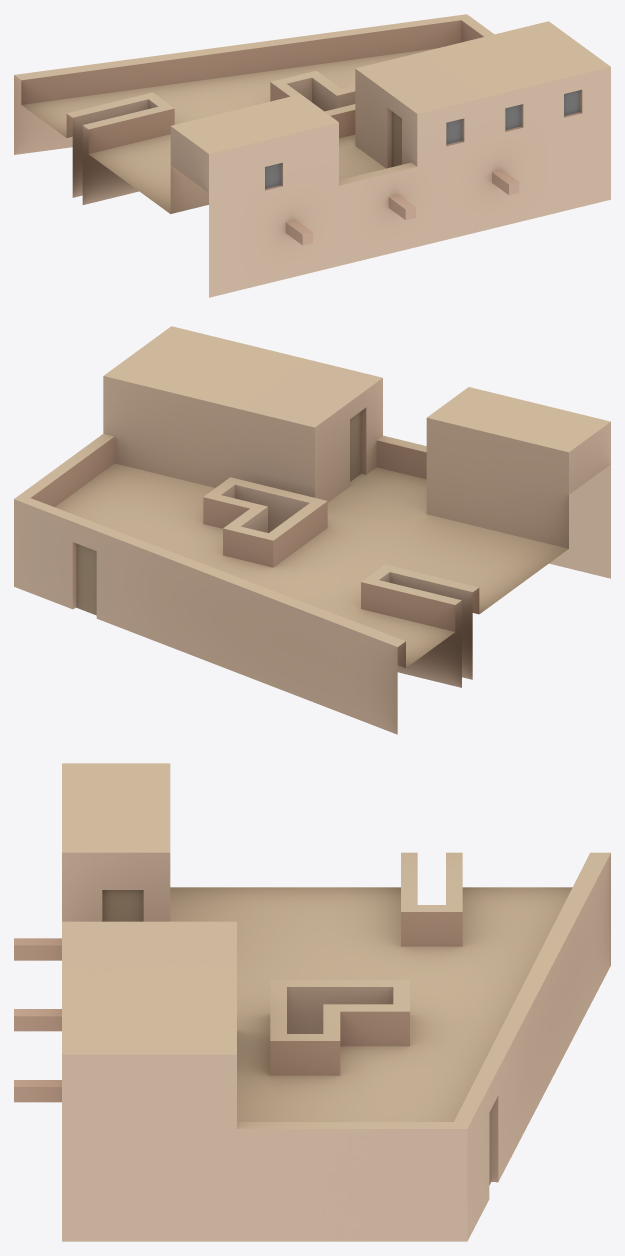
3 views of the same model, one above another, from view 1: azimuth 30°, elevation 25°; view 2: azimuth 150°, elevation 25°; view 3: azimuth 270°, elevation 25° (orthographic). The views are drawn at different scales.
Parts seen in each view (by area): view 1: atturaifworldheritagesite70030076209992704; view 2: atturaifworldheritagesite70030076209992704; view 3: atturaifworldheritagesite70030076209992704.
Boxes of the visible parts, x1,y1,x2,y2 form: atturaifworldheritagesite70030076209992704: [14, 14, 610, 297]; atturaifworldheritagesite70030076209992704: [14, 326, 610, 734]; atturaifworldheritagesite70030076209992704: [14, 763, 610, 1241].
Size of the model in its own units: 13.65 by 4.66 by 12.47.
1 material, 1 textured.
